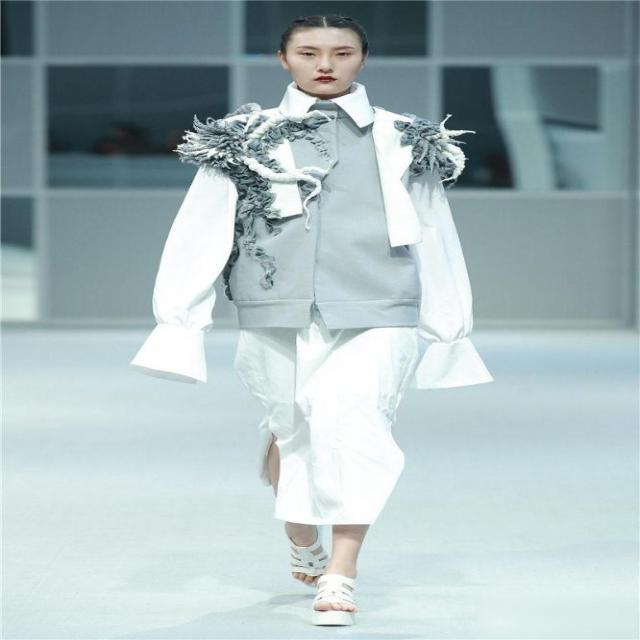Manusia: (152, 10, 462, 614)
